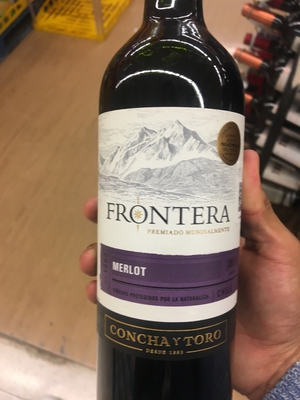frontera merlot: (99, 18, 248, 400)
